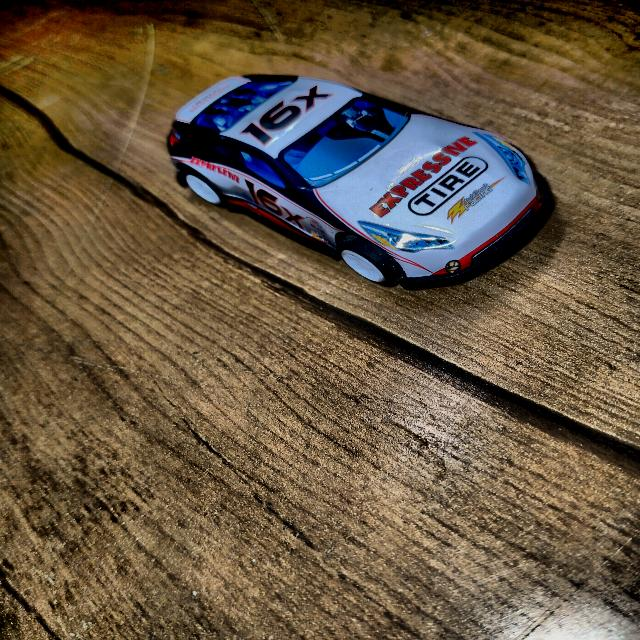Car: (168, 75, 554, 288)
